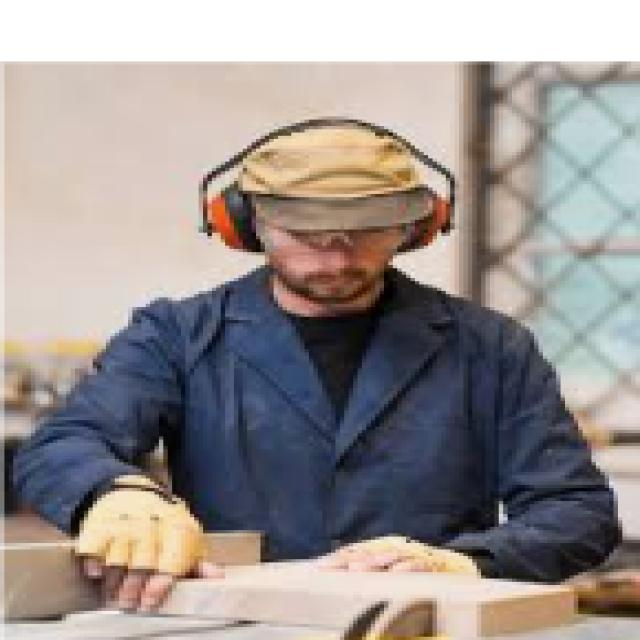glasses: (248, 204, 434, 258)
